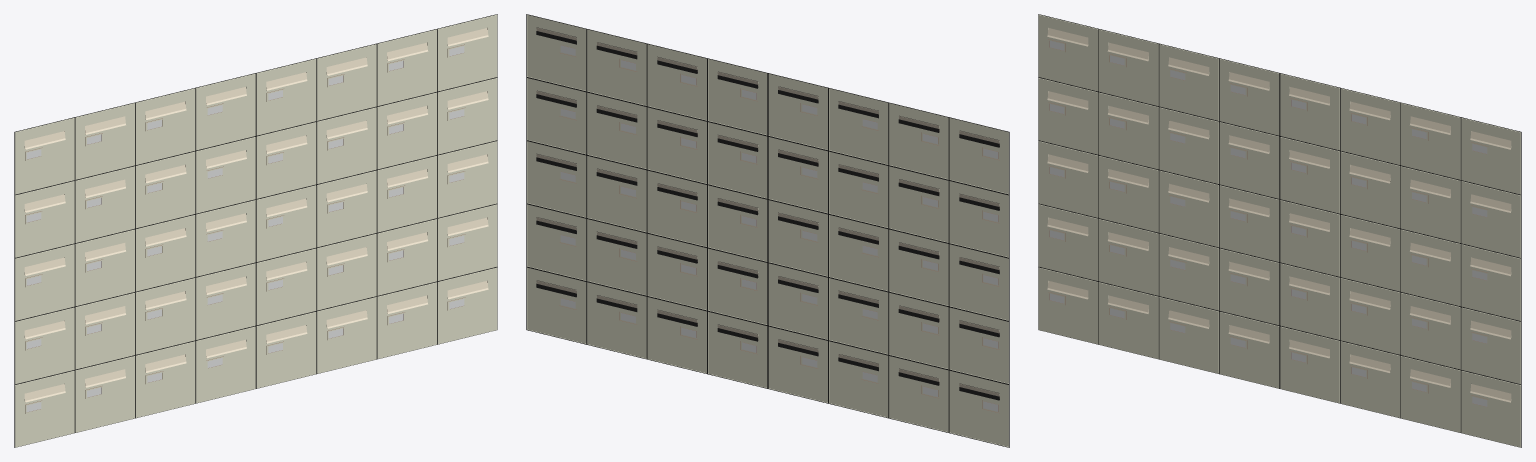
File: scene4_intro.dae
3 views of the same model, side by side, from view 1: azimuth 30°, elevation 25°; view 2: azimuth 150°, elevation 25°; view 3: azimuth 330°, elevation 25° (orthographic).
Visible parts, largest first — view 1: Cube_002; view 2: Cube_002; view 3: Cube_002.
Part boxes in pixels (x1=…): Cube_002: x1=14, y1=14, x2=497, y2=447; Cube_002: x1=526, y1=14, x2=1009, y2=447; Cube_002: x1=1038, y1=14, x2=1521, y2=447.
Size of the model in its own units: 16.28 by 0.0593 by 10.17.
Materials: 1 (1 with a texture image).
